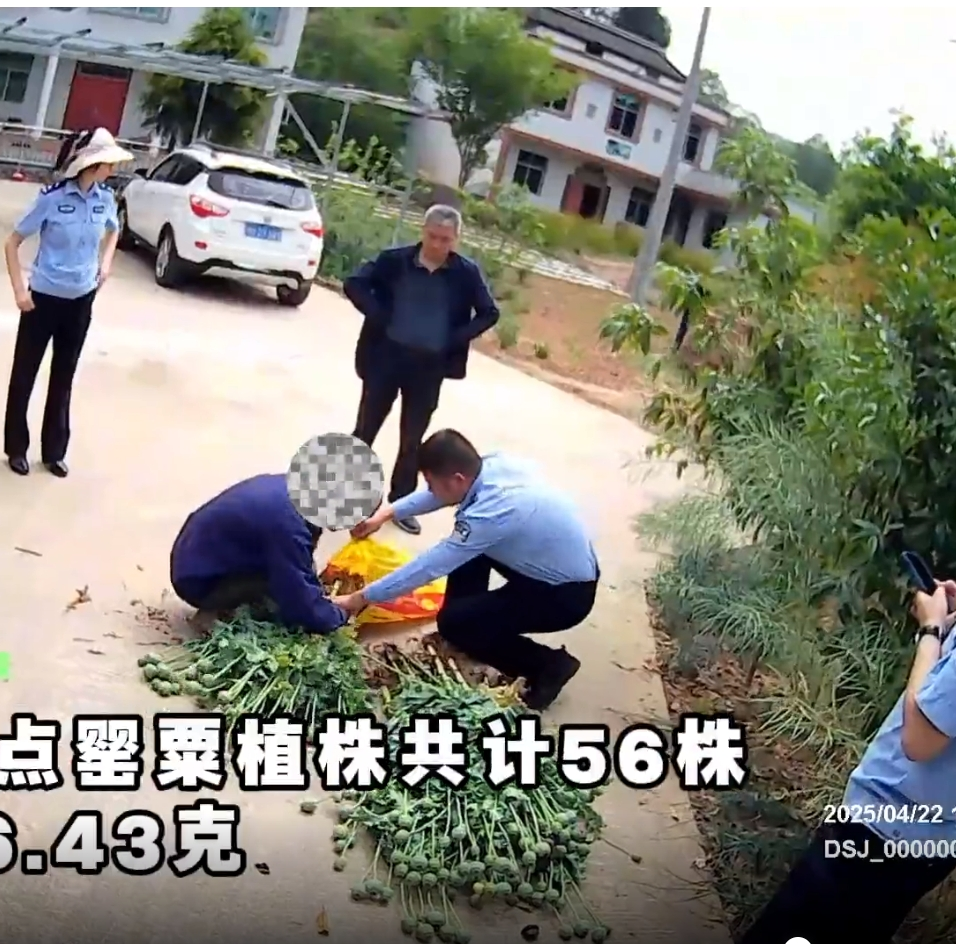Poppy: (329, 627, 632, 941), (117, 594, 370, 728)
